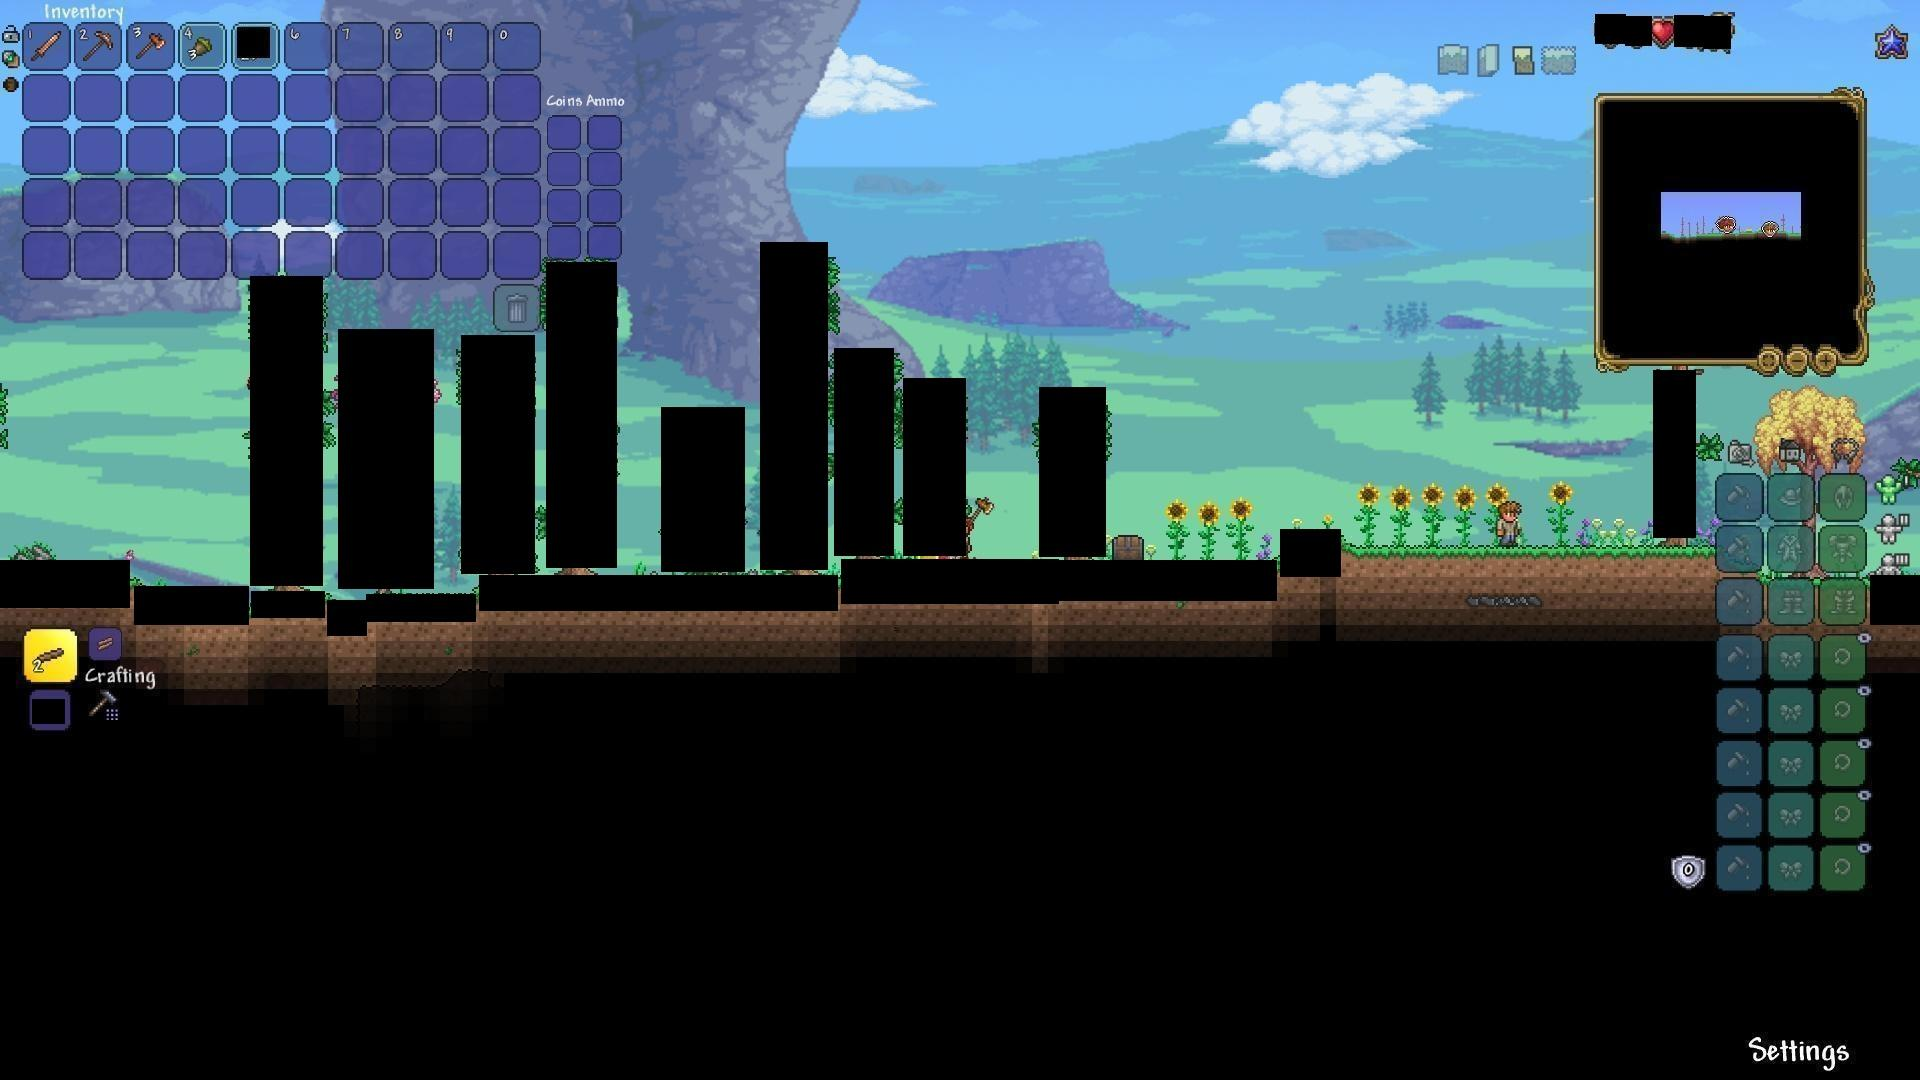dirt: (1341, 545, 1722, 582)
heart: (1648, 17, 1676, 47)
wood: (91, 632, 117, 655)
